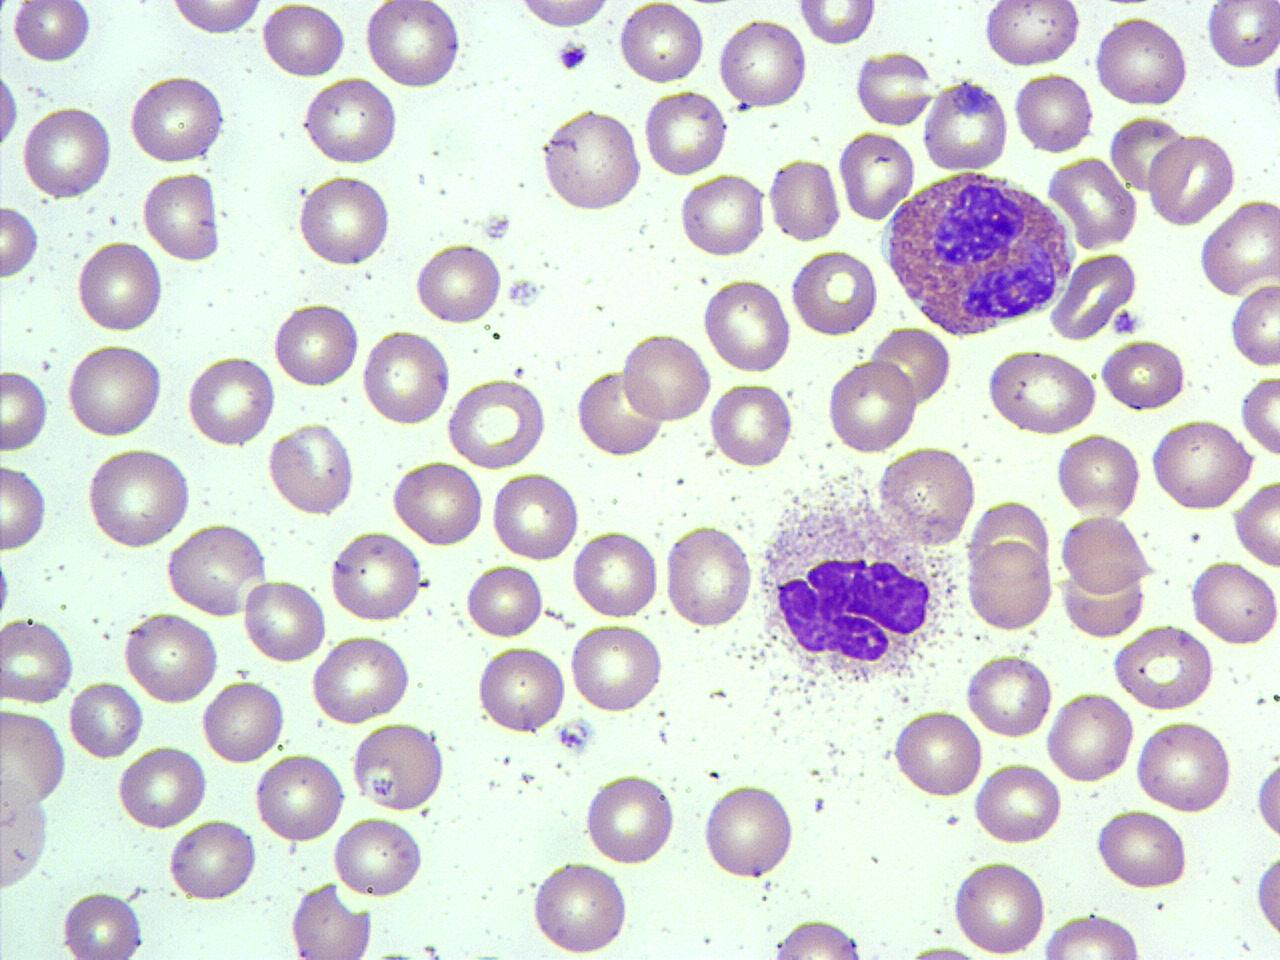Platelets: (553, 717, 597, 754), (546, 28, 596, 57), (1108, 306, 1144, 340), (505, 275, 540, 309), (554, 40, 590, 72), (480, 212, 514, 242), (1268, 52, 1280, 123), (732, 98, 752, 112)
RBC: (538, 105, 644, 214), (84, 444, 194, 549), (876, 442, 980, 548), (162, 521, 272, 618), (661, 520, 755, 632), (527, 858, 632, 957), (1149, 417, 1257, 513), (1134, 716, 1236, 816), (947, 856, 1049, 956), (984, 349, 1100, 436), (63, 342, 167, 439), (444, 376, 551, 470), (700, 781, 796, 884), (120, 610, 222, 707), (295, 172, 395, 270), (18, 102, 115, 202), (310, 633, 415, 725), (127, 72, 229, 165), (582, 770, 678, 868), (1110, 623, 1215, 712), (618, 328, 714, 426), (1092, 14, 1190, 109), (824, 356, 919, 455), (1042, 688, 1136, 788), (566, 620, 666, 714), (266, 419, 360, 519), (360, 326, 452, 428), (327, 531, 426, 624), (301, 74, 401, 166), (362, 1, 466, 90), (700, 276, 794, 374), (349, 721, 449, 813), (716, 16, 810, 112), (388, 456, 486, 549), (474, 643, 568, 738), (1144, 130, 1236, 228), (892, 707, 986, 802), (185, 352, 278, 448), (489, 468, 582, 564), (75, 237, 164, 336), (252, 750, 346, 844), (1047, 152, 1139, 248), (331, 814, 429, 902), (964, 538, 1055, 632), (1094, 807, 1192, 893), (114, 742, 209, 832), (1197, 195, 1279, 298), (971, 760, 1066, 848), (271, 298, 362, 390), (789, 245, 879, 338), (963, 650, 1055, 740), (570, 527, 660, 620), (199, 676, 288, 768), (921, 78, 1009, 172), (1048, 249, 1138, 341), (574, 367, 663, 460), (1053, 430, 1143, 520), (707, 380, 796, 470), (1058, 512, 1152, 598), (240, 576, 329, 666), (1188, 558, 1278, 646), (641, 89, 730, 177), (166, 818, 258, 903), (142, 169, 223, 264), (618, 0, 706, 87), (836, 128, 916, 222), (678, 172, 766, 258), (1012, 69, 1097, 156), (414, 241, 502, 326), (0, 704, 69, 812), (1098, 335, 1188, 414), (0, 614, 77, 706), (66, 676, 146, 762), (286, 880, 374, 960), (260, 1, 348, 81), (980, 0, 1082, 68), (464, 560, 546, 642), (873, 323, 953, 407), (768, 154, 842, 244), (59, 886, 147, 960), (852, 50, 934, 128), (1, 772, 53, 894), (10, 0, 94, 68), (1203, 0, 1279, 72), (1038, 910, 1148, 958), (0, 460, 50, 555), (1227, 280, 1279, 368), (768, 916, 868, 959), (1231, 478, 1279, 567), (1, 368, 50, 454), (796, 0, 878, 48), (167, 0, 266, 37), (1238, 372, 1280, 457), (510, 0, 615, 32), (0, 202, 41, 282), (1253, 752, 1279, 848), (1253, 850, 1279, 944), (0, 53, 20, 162)
WBC: (750, 472, 948, 692), (878, 168, 1074, 340)
